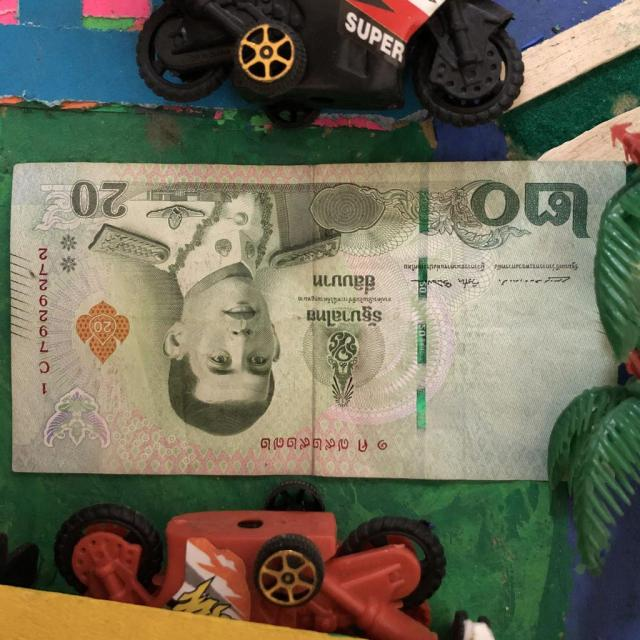THAI20: (11, 162, 624, 480)
